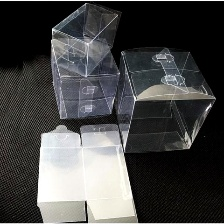plastic_box: (108, 40, 222, 158), (33, 117, 144, 223), (45, 32, 124, 123), (47, 0, 126, 80)
